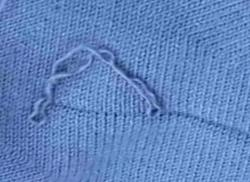snag: (131, 86, 167, 122)
